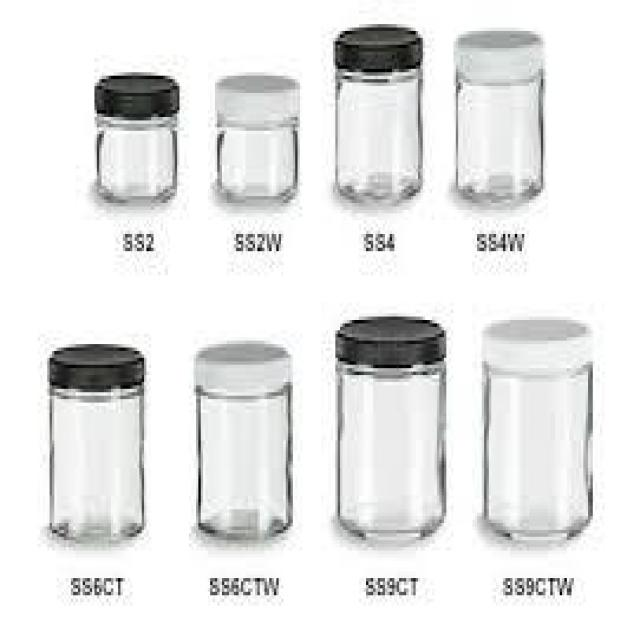non-organic waste: (93, 69, 183, 213), (212, 69, 304, 206)
